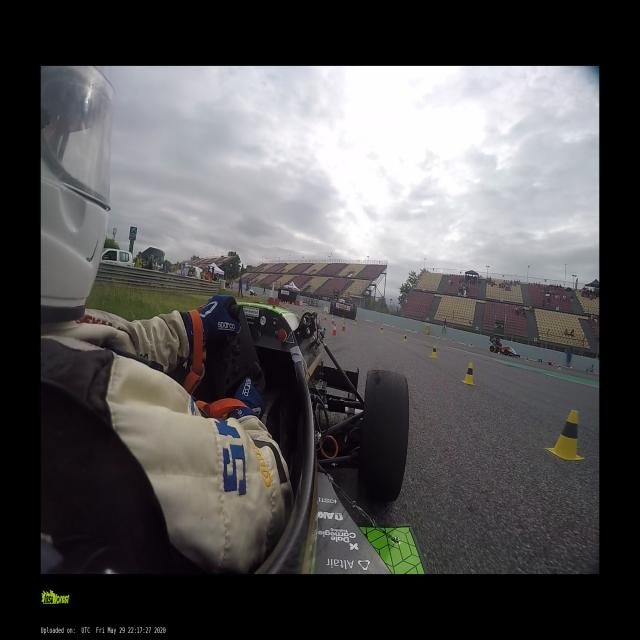orange_cone: (332, 324, 337, 336), (342, 322, 345, 331), (332, 317, 334, 323), (325, 314, 326, 320)
yellow_cone: (548, 410, 585, 461), (461, 362, 475, 386), (431, 345, 436, 358), (404, 334, 406, 342), (558, 364, 561, 369), (381, 327, 383, 332), (342, 315, 344, 320), (526, 357, 528, 362), (396, 324, 398, 328), (436, 334, 438, 338), (355, 318, 356, 324), (471, 342, 472, 347), (412, 329, 413, 333), (418, 330, 419, 334), (390, 324, 392, 326), (441, 335, 442, 339), (453, 338, 454, 342), (467, 342, 468, 346)
